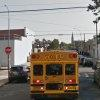Bus: (24, 49, 85, 100)
